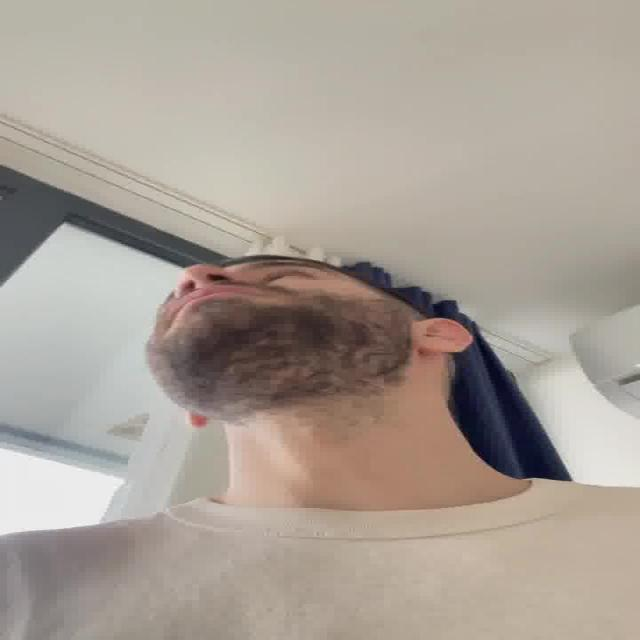earlobe: (181, 409, 213, 430), (416, 337, 448, 355)
eye: (257, 270, 315, 282)
nose: (173, 277, 244, 293)
wholeear: (416, 317, 473, 355)
